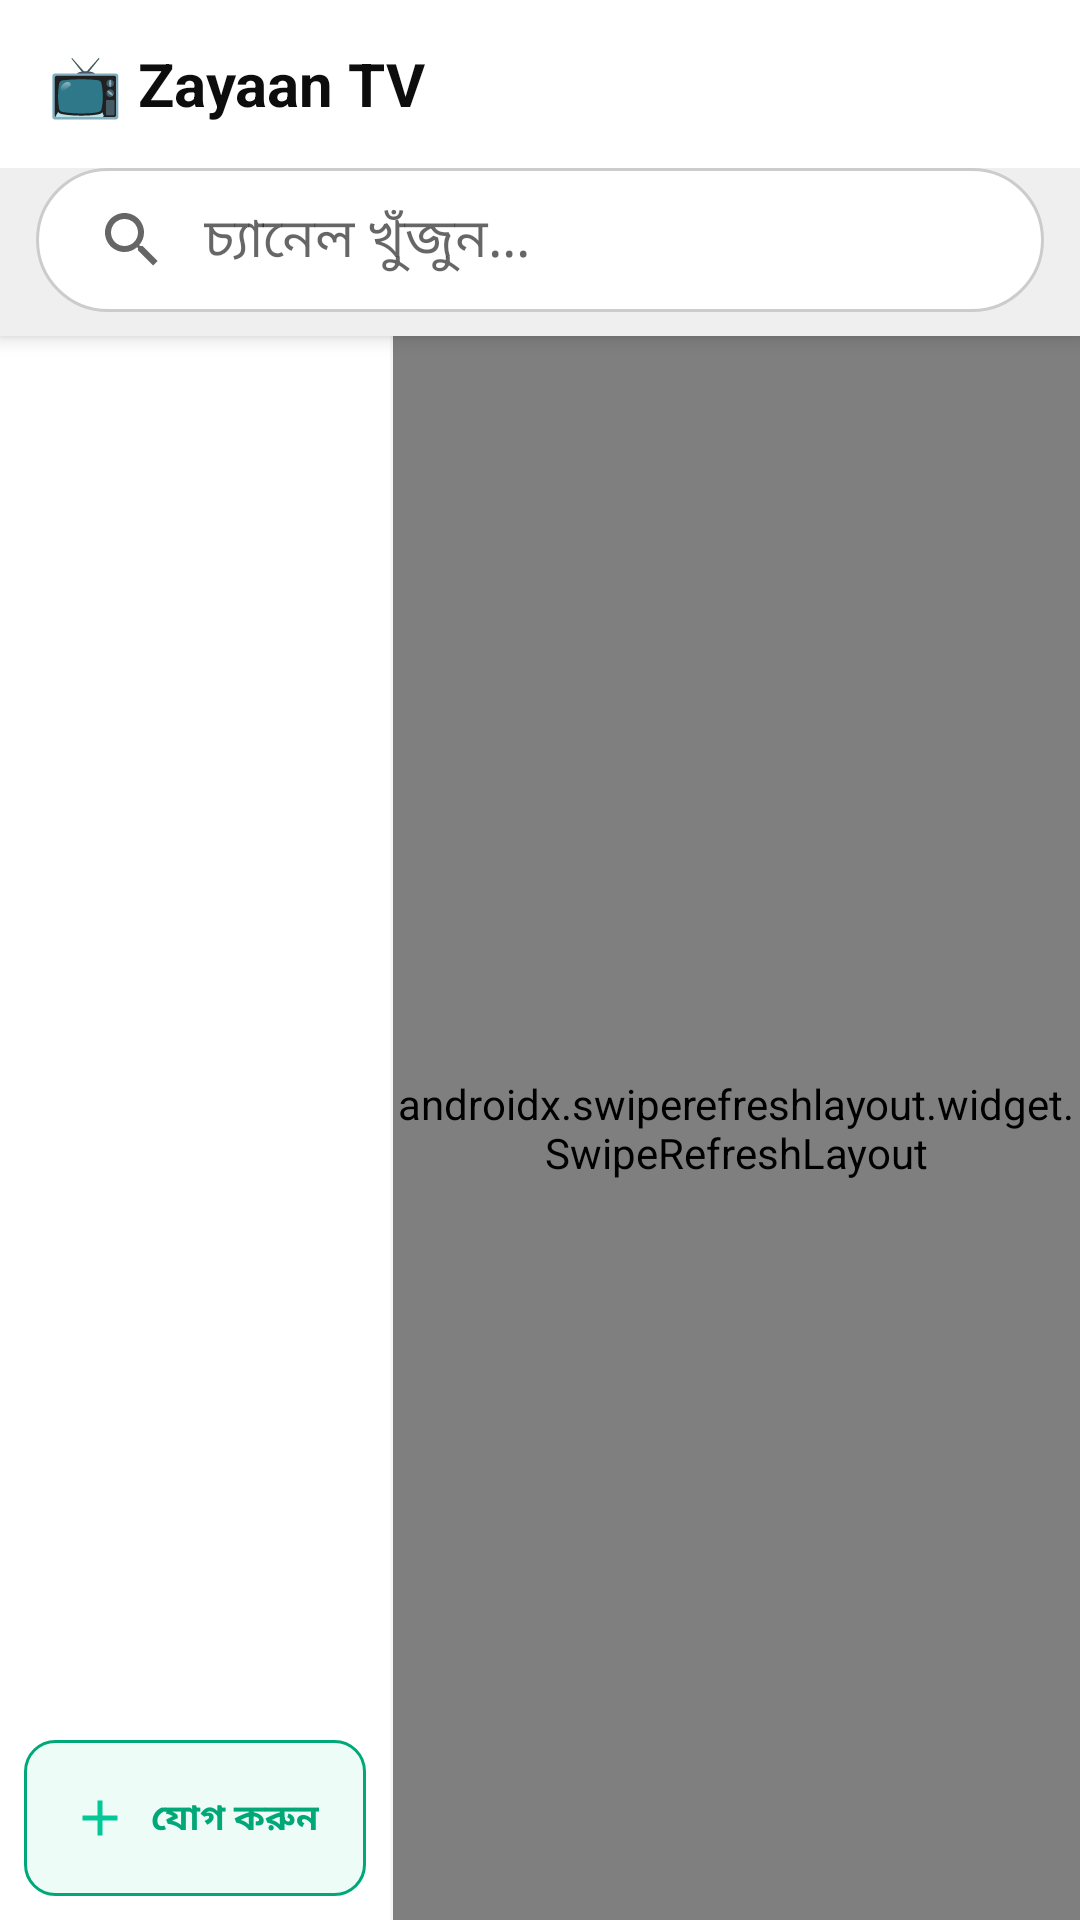

Where to tap for icons on this 1080w x 1920h app screen, as [x,y]:
add playlist: [100,1818]
